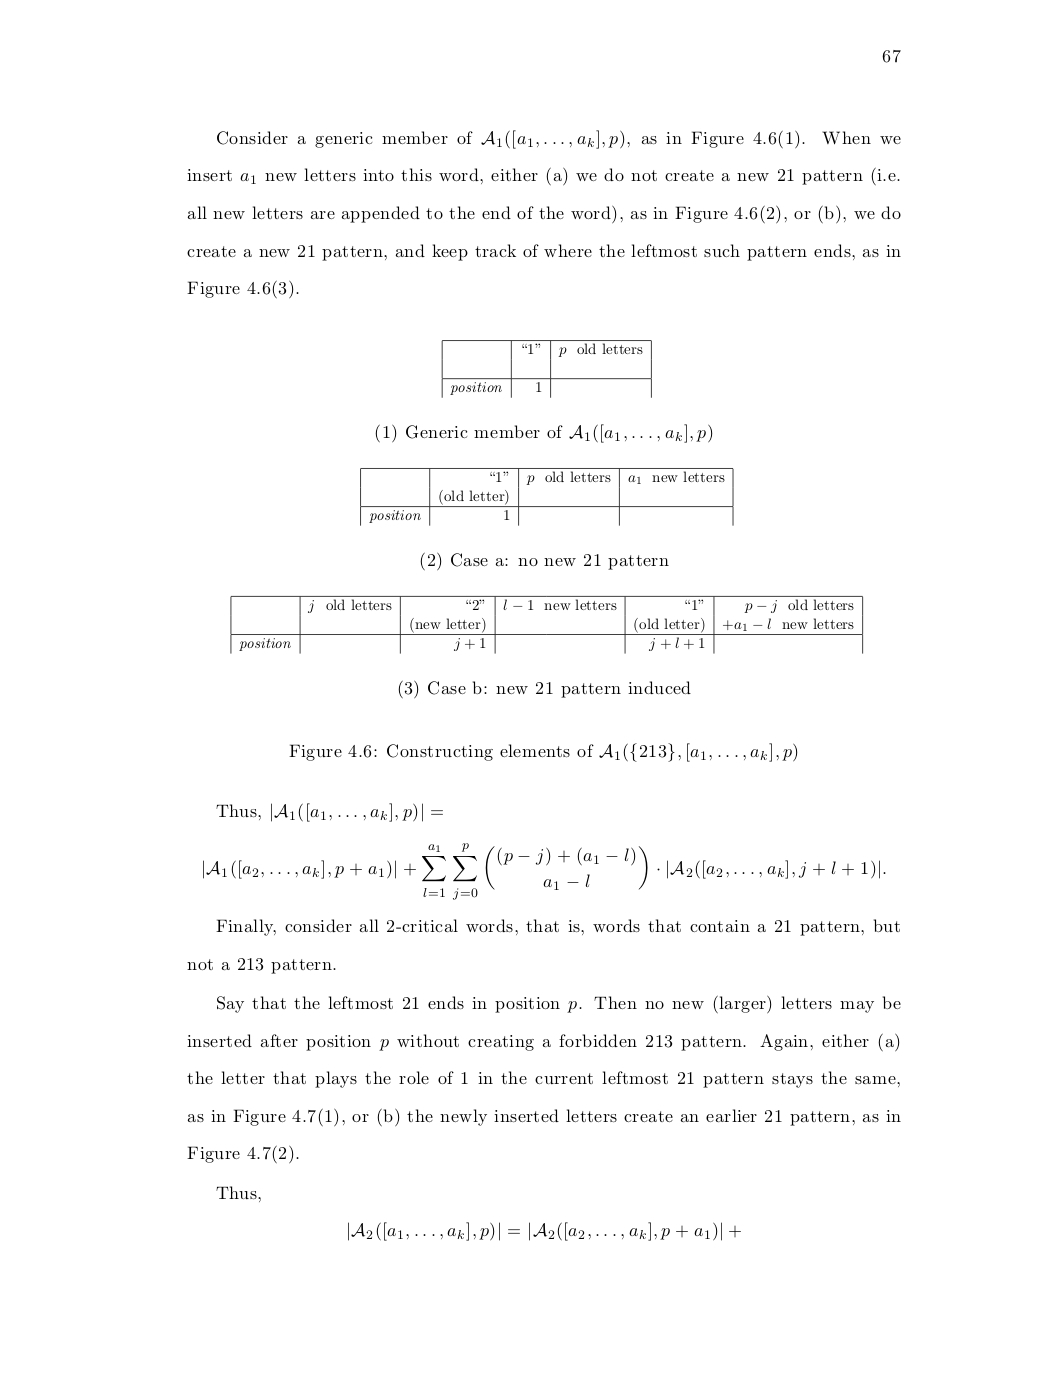Table: (230, 594, 863, 654), (360, 467, 733, 526), (441, 339, 651, 398)
formula: (203, 843, 885, 900), (348, 1221, 740, 1241)
